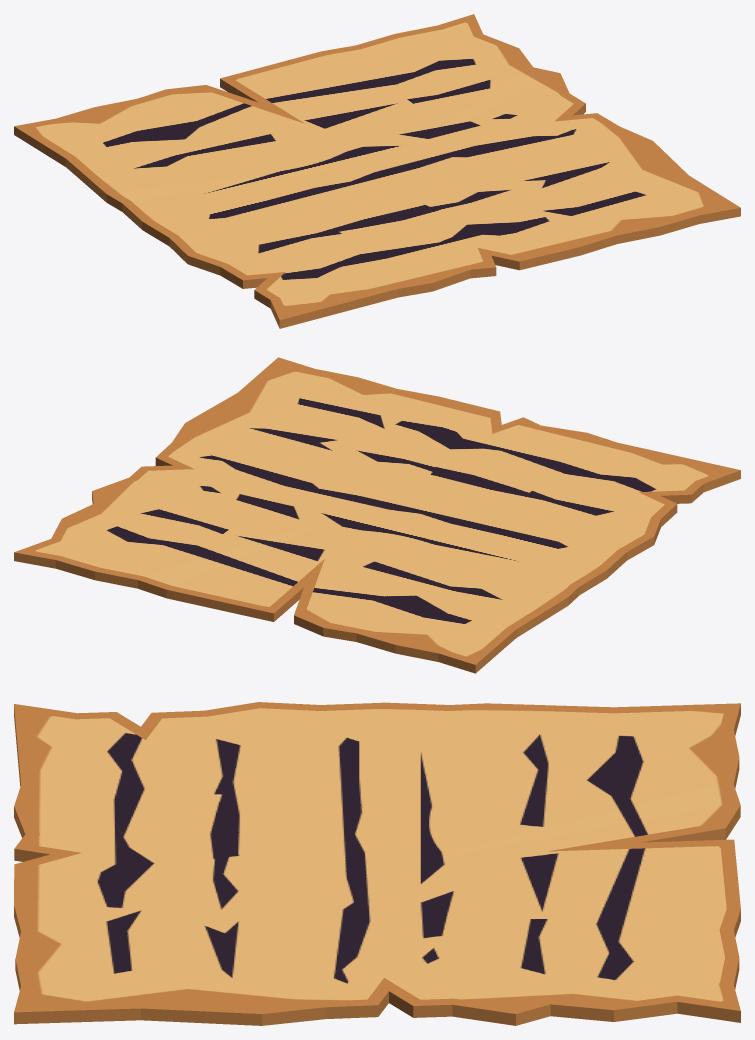
File: SlidingPuzzleCompletePaper.fbx
3 renders of one model, top to bottom at view 1: azimuth 30°, elevation 25°; view 2: azimuth 150°, elevation 25°; view 3: azimuth 270°, elevation 25°, orthographic. The views are drawn at different scales.
Parts seen in each view (by area): view 1: SlideComplete; view 2: SlideComplete; view 3: SlideComplete.
Boxes of the visible parts, box(x1,y1,x2,y2) form: SlideComplete: box(14, 14, 740, 328); SlideComplete: box(14, 357, 740, 673); SlideComplete: box(14, 702, 740, 1025).
Size of the model in its own units: 67.1 by 1.2 by 66.06.
